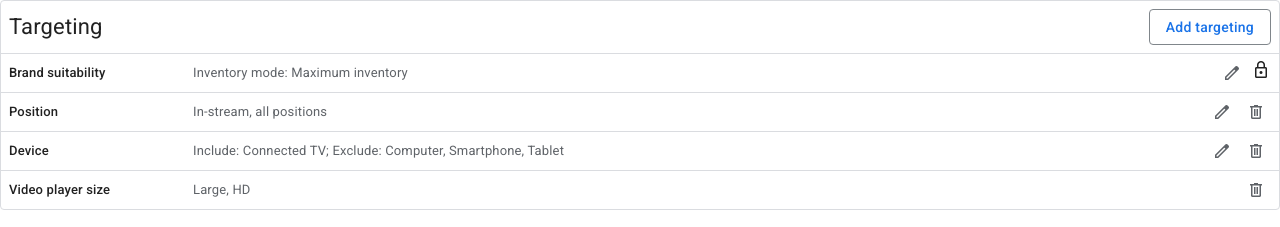
Test: TargetingCard › removes a removable row with the trash icon
The image size is (1280, 227).
Click the button named "Remove Device" at (1256,151), box [1241,136,1271,166]
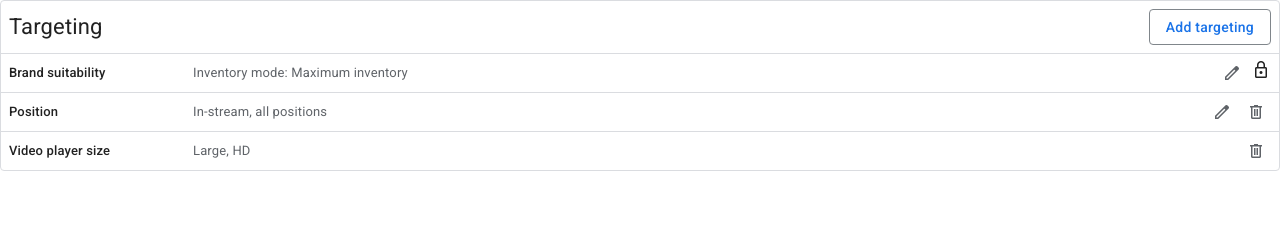
Result: the list item with test id "target-row-DEVICE" is gone
